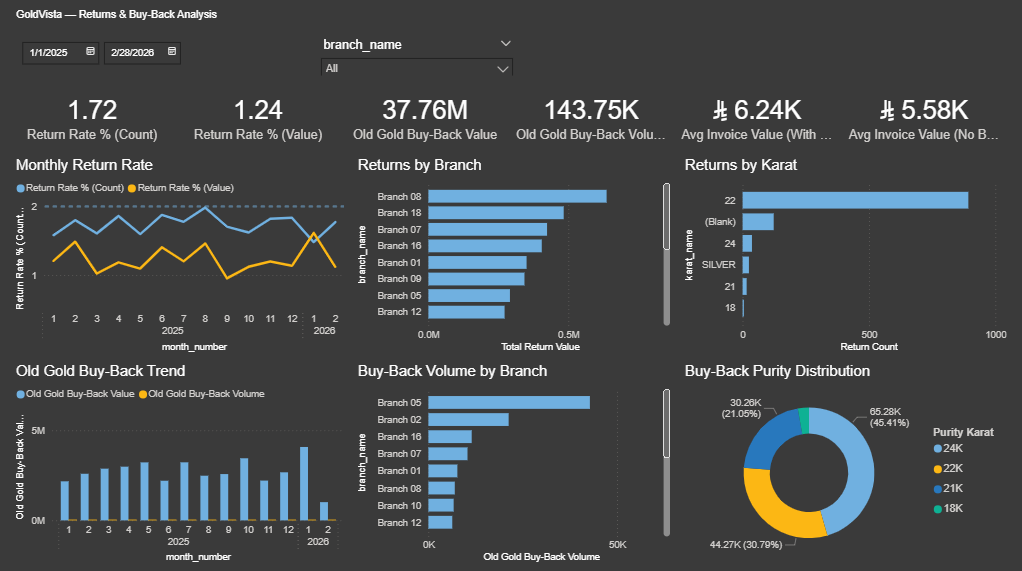

Layout of this report page (visuals, bound fields, positions):
{"tool":"powerbi","page":{"name":"Returns & Buy-Back Analysis","canvas":[1280,720],"ordinal":4},"visuals":[{"type":"textbox","box":[16,6,600,32],"z":0},{"type":"card","fields":{"Values":["_Measures.Return Rate % (Count)"]},"box":[16,106,200,80],"z":1000},{"type":"card","fields":{"Values":["_Measures.Return Rate % (Value)"]},"box":[224,106,200,80],"z":2000},{"type":"card","fields":{"Values":["_Measures.Old Gold Buy-Back Value"]},"box":[432,106,200,80],"z":3000},{"type":"card","fields":{"Values":["_Measures.Old Gold Buy-Back Volume"]},"box":[640,106,200,80],"z":4000},{"type":"lineChart","title":"Monthly Return Rate","fields":{"Category":["public dim_date.year","public dim_date.month_number"],"Y":["_Measures.Return Rate % (Count)","_Measures.Return Rate % (Value)"]},"box":[16,196,420,250],"z":5000},{"type":"barChart","title":"Returns by Branch","fields":{"Category":["public dim_branch.branch_name"],"Y":["_Measures.Total Return Value"]},"box":[444,196,400,250],"z":6000},{"type":"clusteredColumnChart","title":"Old Gold Buy-Back Trend","fields":{"Category":["public dim_date.year","public dim_date.month_number"],"Y":["_Measures.Old Gold Buy-Back Value","_Measures.Old Gold Buy-Back Volume"]},"box":[16,454,420,256],"z":7000},{"type":"barChart","title":"Buy-Back Volume by Branch","fields":{"Category":["public dim_branch.branch_name"],"Y":["_Measures.Old Gold Buy-Back Volume"]},"box":[444,454,400,256],"z":8000},{"type":"barChart","title":"Returns by Karat","fields":{"Category":["public dim_karat.karat_name"],"Y":["_Measures.Return Count"]},"box":[852,196,412,250],"z":9000},{"type":"donutChart","title":"Buy-Back Purity Distribution","fields":{"Category":["public fact_old_gold_purchase.Purity Karat"],"Y":["_Measures.Old Gold Buy-Back Volume"]},"box":[852,454,412,256],"z":10000},{"type":"card","title":"Avg Invoice: Other Customers","fields":{"Values":["_Measures.Avg Invoice Value (No Buy-Back)"]},"box":[1056,106,200,80],"z":11000},{"type":"card","title":"Avg Invoice: Buy-Back Customers","fields":{"Values":["_Measures.Avg Invoice Value (With Buy-Back)"]},"box":[848,106,200,80],"z":12000},{"type":"slicer","fields":{"Values":["public dim_date.date_key"]},"box":[16,44,360,52],"z":13000},{"type":"slicer","fields":{"Values":["public dim_branch.branch_name"]},"box":[392,44,260,52],"z":14000}]}

Visuals, with their boxes in screenshot pixels (x1, y1, x2, y2), scaled from the page's 1280x720 canvas onto the 1022x571 screenshot:
textbox: box=[13, 5, 492, 30]
card - _Measures.Return Rate % (Count): box=[13, 84, 172, 148]
card - _Measures.Return Rate % (Value): box=[179, 84, 339, 148]
card - _Measures.Old Gold Buy-Back Value: box=[345, 84, 505, 148]
card - _Measures.Old Gold Buy-Back Volume: box=[511, 84, 671, 148]
"Monthly Return Rate" lineChart: box=[13, 155, 348, 354]
"Returns by Branch" barChart: box=[355, 155, 674, 354]
"Old Gold Buy-Back Trend" clusteredColumnChart: box=[13, 360, 348, 563]
"Buy-Back Volume by Branch" barChart: box=[355, 360, 674, 563]
"Returns by Karat" barChart: box=[680, 155, 1009, 354]
"Buy-Back Purity Distribution" donutChart: box=[680, 360, 1009, 563]
"Avg Invoice: Other Customers" card: box=[843, 84, 1003, 148]
"Avg Invoice: Buy-Back Customers" card: box=[677, 84, 837, 148]
slicer - public dim_date.date_key: box=[13, 35, 300, 76]
slicer - public dim_branch.branch_name: box=[313, 35, 521, 76]
